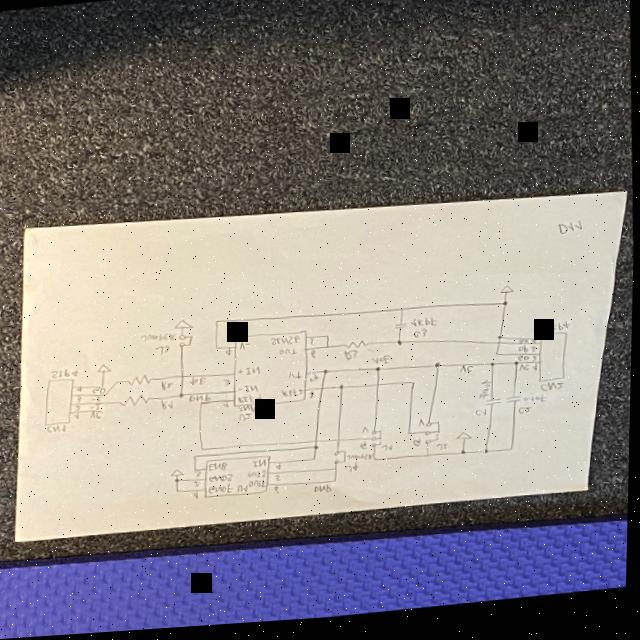capacitor: (505, 402, 525, 412), (393, 327, 411, 337), (487, 404, 503, 414)
crossover: (321, 390, 327, 395), (181, 377, 187, 381), (376, 388, 382, 392), (497, 349, 503, 352), (314, 444, 320, 447), (338, 443, 343, 446)
ground: (175, 321, 195, 333), (97, 364, 114, 375), (457, 437, 475, 447), (171, 470, 187, 480), (500, 291, 515, 301)
junction: (434, 368, 442, 374), (323, 373, 331, 379), (375, 371, 383, 377), (497, 341, 505, 347), (314, 449, 321, 455), (502, 308, 509, 314), (339, 389, 346, 395), (397, 346, 405, 351), (495, 358, 501, 364), (411, 386, 417, 392), (214, 323, 221, 328), (312, 461, 319, 466), (485, 456, 491, 461), (491, 368, 497, 373), (325, 339, 331, 344), (181, 395, 186, 401), (427, 458, 433, 463), (515, 368, 521, 373), (462, 457, 469, 461), (202, 450, 209, 454), (103, 394, 110, 398), (177, 491, 183, 495), (510, 454, 516, 458), (215, 349, 221, 353), (193, 457, 199, 461), (408, 437, 414, 441), (101, 385, 107, 389), (175, 480, 181, 484), (401, 313, 406, 317), (335, 483, 340, 487), (335, 471, 339, 475), (117, 382, 121, 386), (195, 471, 199, 475), (202, 405, 206, 408), (326, 350, 330, 353), (374, 464, 379, 466)
resistor: (120, 395, 152, 409), (128, 376, 154, 388), (343, 344, 370, 355)
switch: (425, 425, 444, 451), (369, 435, 385, 454), (179, 335, 195, 350), (335, 455, 349, 469)
terminal: (535, 337, 572, 390), (42, 377, 77, 427)
text: (140, 333, 178, 346), (237, 406, 275, 419), (411, 321, 439, 335), (271, 339, 303, 350), (52, 368, 80, 380), (478, 385, 494, 406), (209, 486, 237, 498), (371, 358, 395, 371), (545, 329, 572, 340), (542, 388, 566, 400), (348, 457, 376, 467), (210, 476, 235, 487), (238, 369, 262, 380), (238, 397, 264, 407), (524, 402, 548, 412), (282, 391, 306, 401), (209, 465, 230, 476), (189, 396, 211, 406), (238, 388, 260, 398), (250, 482, 270, 493), (191, 378, 209, 390), (48, 425, 68, 435), (249, 473, 269, 483), (160, 381, 175, 394), (315, 489, 334, 499), (161, 400, 175, 413), (345, 353, 359, 366), (156, 347, 172, 358), (89, 410, 105, 421), (461, 370, 476, 381), (280, 352, 299, 360), (254, 462, 269, 472), (414, 335, 430, 344), (520, 413, 534, 422), (290, 375, 304, 384), (437, 448, 450, 457), (347, 468, 361, 476), (359, 446, 371, 455), (383, 449, 395, 458), (241, 416, 253, 425), (240, 345, 252, 354), (239, 488, 251, 497), (309, 378, 322, 386), (193, 493, 203, 503), (93, 389, 107, 396), (476, 415, 488, 423), (520, 371, 531, 379), (309, 354, 320, 362), (519, 352, 530, 360), (519, 344, 531, 351), (76, 396, 85, 405), (224, 403, 233, 412), (276, 465, 285, 474), (274, 478, 284, 486), (74, 412, 84, 420), (414, 445, 425, 452), (194, 473, 205, 480), (92, 397, 103, 404), (274, 490, 282, 499), (225, 351, 234, 359), (519, 362, 531, 368), (91, 405, 103, 411), (223, 382, 232, 390), (419, 424, 427, 433), (362, 431, 370, 439), (77, 387, 85, 395), (309, 395, 318, 402), (533, 370, 540, 379), (310, 342, 317, 350), (194, 483, 203, 489), (76, 405, 83, 412), (531, 353, 538, 360), (532, 363, 539, 369), (532, 345, 538, 351)
